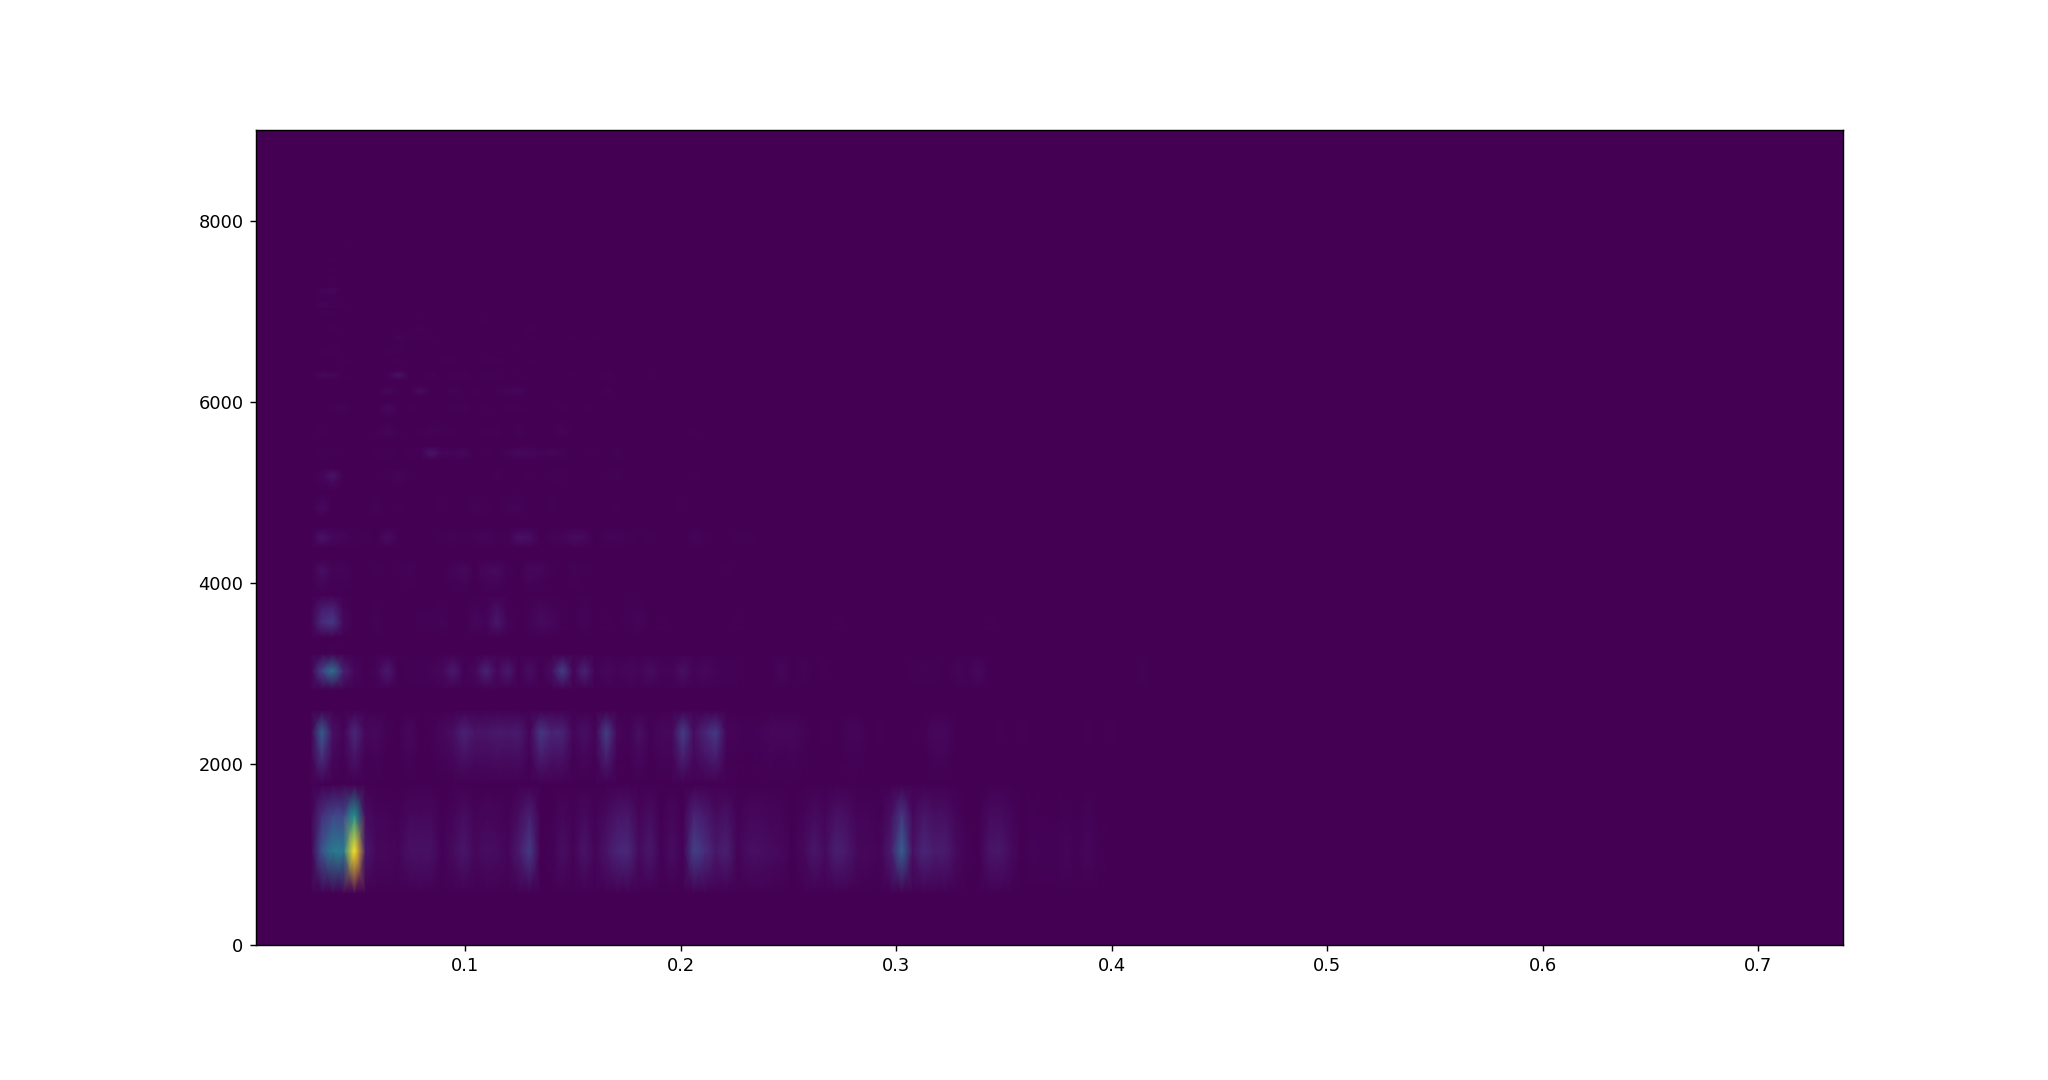GunShot: (299, 365, 916, 897)
